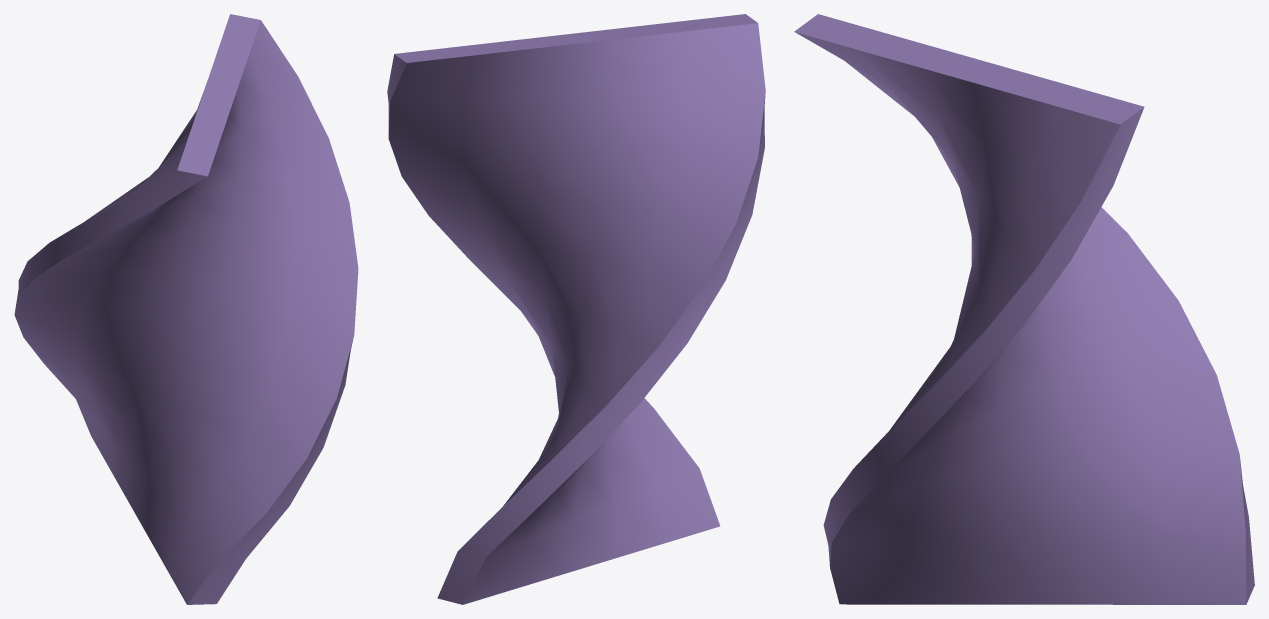
Rendered from Truncus.fbx.
The picture shows the model from 3 angles, left to right: view 1: azimuth 30°, elevation 25°; view 2: azimuth 150°, elevation 25°; view 3: azimuth 270°, elevation 25°; orthographic projection. The views are drawn at different scales.
Parts seen in each view (by area): view 1: Truncus; view 2: Truncus; view 3: Truncus.
Boxes of the visible parts, bbox=[...] form: Truncus: bbox=[14, 14, 358, 604]; Truncus: bbox=[387, 14, 765, 604]; Truncus: bbox=[794, 14, 1254, 604].
Size of the model in its own units: 69.89 by 106 by 76.09.
Materials: 1 (1 with a texture image).
